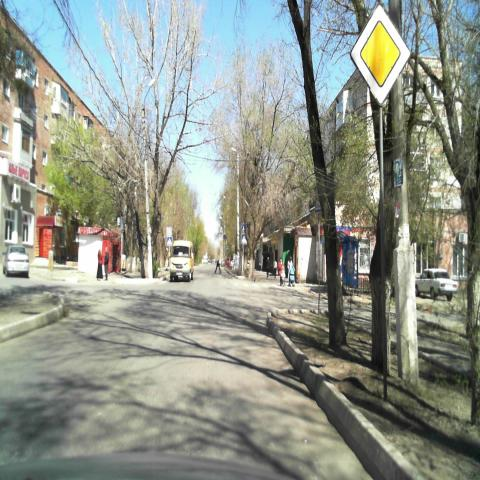2_1: (350, 4, 412, 109)
